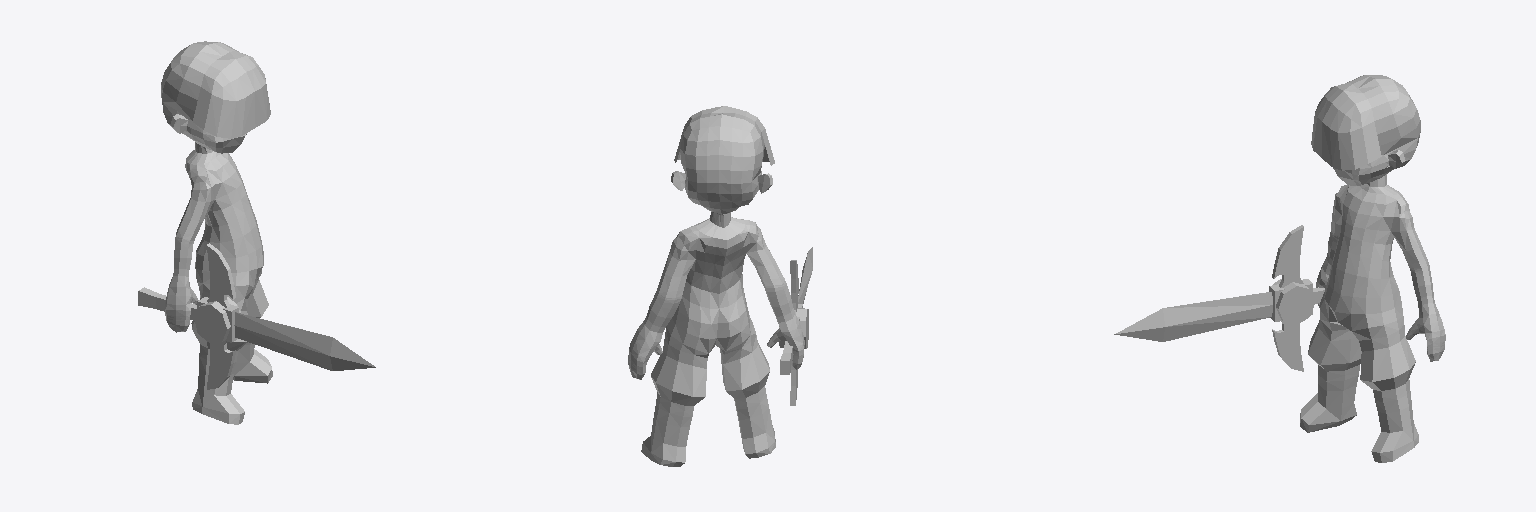
The model's file is personagens.obj.
The picture shows the model from 3 angles: view 1: azimuth 30°, elevation 25°; view 2: azimuth 150°, elevation 25°; view 3: azimuth 270°, elevation 25°; orthographic projection.
Visible parts, largest first — view 1: Cube, Cube.004; view 2: Cube, Cube.004; view 3: Cube, Cube.004.
Part boxes in pixels (x1,y1,x2,y2): Cube: (161, 41, 272, 424); Cube.004: (138, 243, 375, 389); Cube: (628, 106, 804, 466); Cube.004: (779, 247, 812, 405); Cube: (1300, 75, 1445, 462); Cube.004: (1114, 225, 1324, 371).
Bounding box in the file's own units: 1.01 × 2.44 × 2.07.